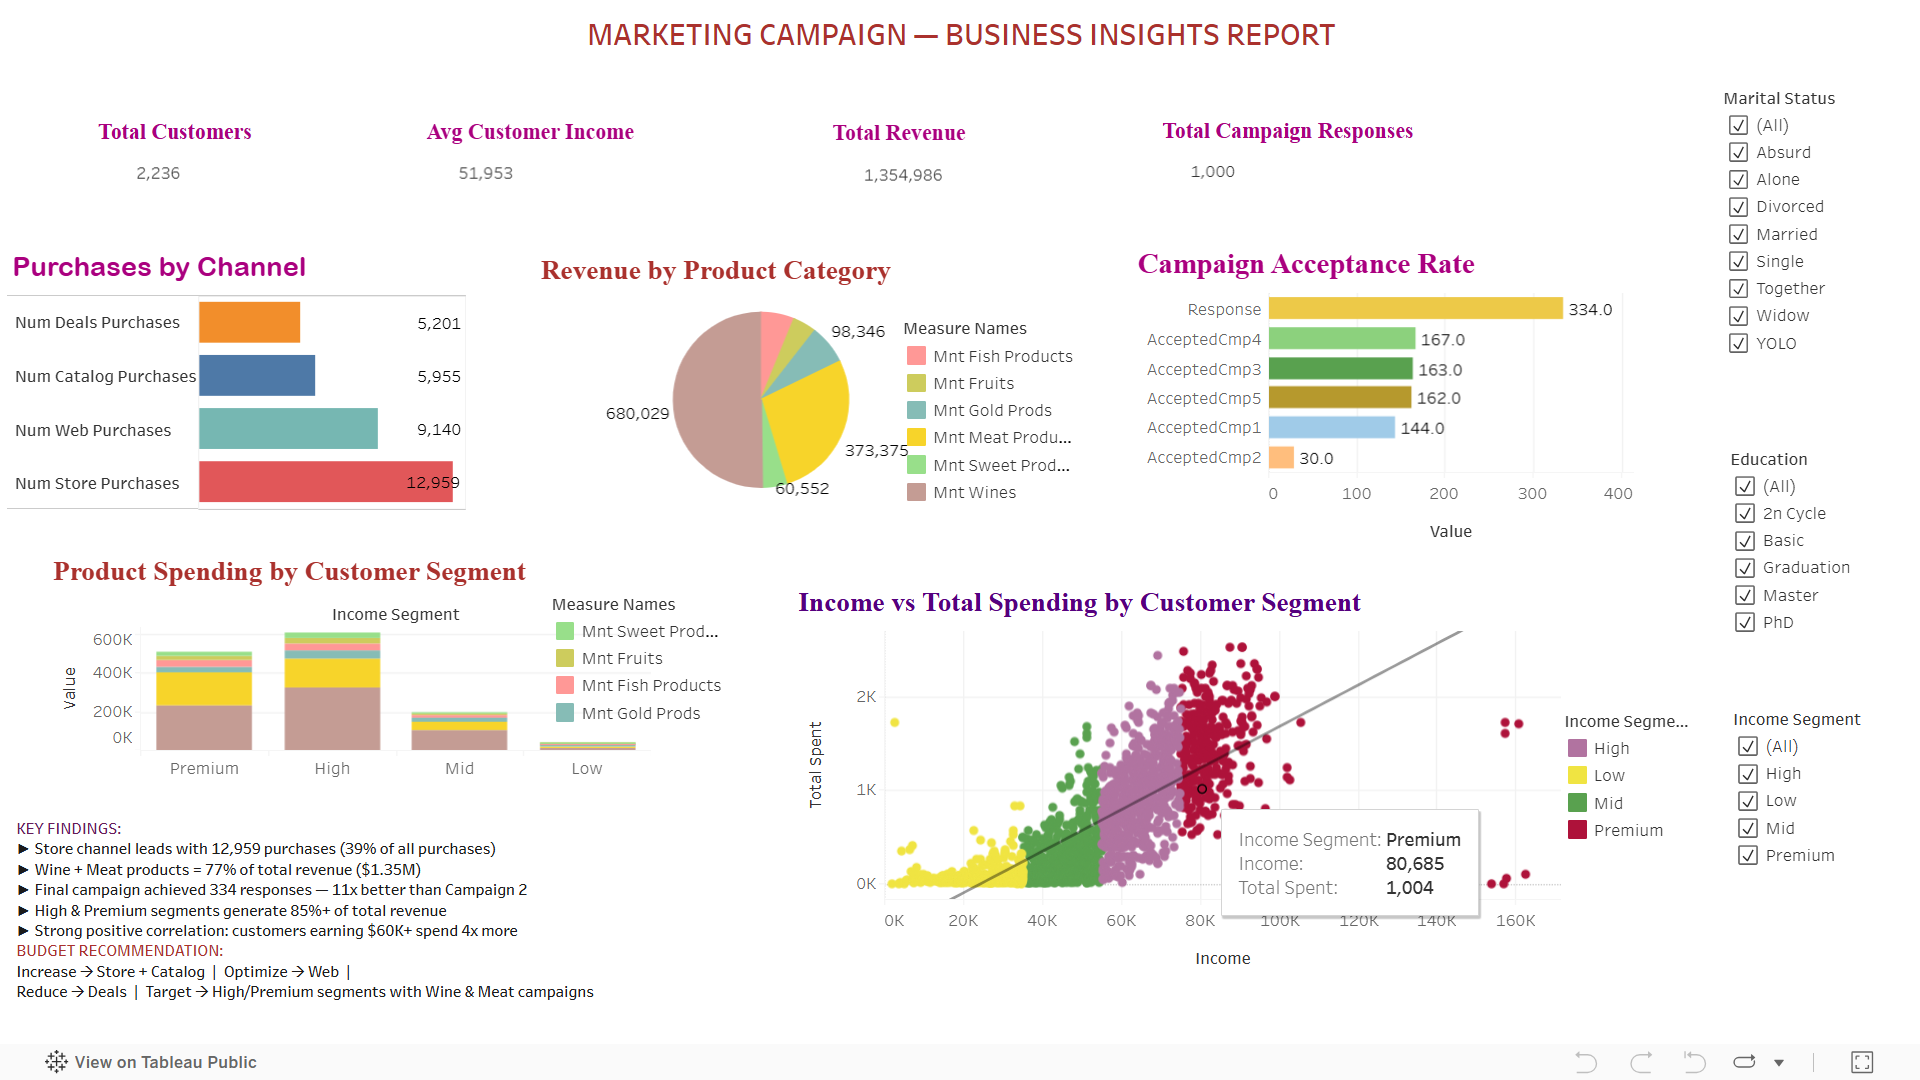

This screenshot's page, from the dashboard's own definition file:
{"tool":"tableau","page":{"name":"MARKETING CAMPAIGN — BUSINESS INSIGHTS REPORT","canvas":[1000,1000],"units":"permille","ordinal":0},"visuals":[{"type":"title","box":[4.8,10,990.3,48.8]},{"type":"blank","box":[4.8,58.8,990.3,616.2]},{"type":"filter","title":"Channel Purchases","param":"[federated.1y67jo71kzln1x0zrn0sl01vzkhu].[none:Marital_Status:nk]","box":[896.2,81.2,96.6,293.8]},{"type":"text","box":[604.7,106.2,161.1,37.5]},{"type":"text","box":[51.3,107.5,104.4,37.5]},{"type":"text","box":[222.1,107.5,132.2,37.5]},{"type":"text","box":[432.7,108.8,86.9,37.5]},{"type":"worksheet","title":"Total Revenue","mark":"Automatic","box":[436.3,137.5,333.1,332.5]},{"type":"worksheet","title":"Total Campaign Responses","mark":"Automatic","box":[602.3,150,333.1,332.5]},{"type":"worksheet","title":"Total Customers","mark":"Automatic","box":[53.7,151.2,333.1,332.5]},{"type":"worksheet","title":"Avg Customer Income","mark":"Automatic","box":[226.9,151.2,333.1,332.5]},{"type":"worksheet","title":"Campaign Performance","mark":"Automatic","box":[589,227.5,260.7,298.8]},{"type":"worksheet","title":"Channel Purchases","mark":"Bar","box":[3.6,231.2,238.5,257.5]},{"type":"worksheet","title":"Product Spending","mark":"Pie","box":[278.2,233.8,234.8,245]},{"type":"legend","title":"Product Spending","param":"[federated.1y67jo71kzln1x0zrn0sl01vzkhu].[:Measure Names]","box":[470.1,302.5,89.9,185]},{"type":"filter","title":"Channel Purchases","param":"[federated.1y67jo71kzln1x0zrn0sl01vzkhu].[none:Education:nk]","box":[899.8,426.2,96.6,207.5]},{"type":"worksheet","title":"Segment Analysis","mark":"Automatic","cols":["Income_Segment"],"box":[25,522.5,313.7,223.8]},{"type":"worksheet","title":"Income vs Spending","mark":"Automatic","rows":["Total_Spent"],"cols":["Income"],"box":[412.6,552.5,399.5,382.5]},{"type":"legend","title":"Segment Analysis","param":"[federated.1y67jo71kzln1x0zrn0sl01vzkhu].[:Measure Names]","box":[286.8,566.2,103.2,130]},{"type":"blank","box":[4.8,675,990.3,87.5]},{"type":"filter","title":"Channel Purchases","param":"[federated.1y67jo71kzln1x0zrn0sl01vzkhu].[none:Income_Segment:nk]","box":[901.6,676.2,96.6,178.8]},{"type":"legend","title":"Income vs Spending","param":"[federated.1y67jo71kzln1x0zrn0sl01vzkhu].[none:Income_Segment:nk]","box":[813.4,678.8,65.6,128.8]},{"type":"text","box":[4.8,762.5,990.3,227.5]}]}

Visuals, with their boxes on the dashboard's canvas, which has no fixed pixel size, in thousandths of its width and height (x1, y1, x2, y2). These are canvas units, not pixel positions in the 1920x1080 screenshot, which may show the page scaled, cropped or inside an application window:
title: pyautogui.locateOnScreen(5, 10, 995, 59)
blank: pyautogui.locateOnScreen(5, 59, 995, 675)
"Channel Purchases" filter: pyautogui.locateOnScreen(896, 81, 993, 375)
text: pyautogui.locateOnScreen(605, 106, 766, 144)
text: pyautogui.locateOnScreen(51, 108, 156, 145)
text: pyautogui.locateOnScreen(222, 108, 354, 145)
text: pyautogui.locateOnScreen(433, 109, 520, 146)
"Total Revenue" worksheet: pyautogui.locateOnScreen(436, 138, 769, 470)
"Total Campaign Responses" worksheet: pyautogui.locateOnScreen(602, 150, 935, 482)
"Total Customers" worksheet: pyautogui.locateOnScreen(54, 151, 387, 484)
"Avg Customer Income" worksheet: pyautogui.locateOnScreen(227, 151, 560, 484)
"Campaign Performance" worksheet: pyautogui.locateOnScreen(589, 228, 850, 526)
"Channel Purchases" worksheet (Bar marks): pyautogui.locateOnScreen(4, 231, 242, 489)
"Product Spending" worksheet (Pie marks): pyautogui.locateOnScreen(278, 234, 513, 479)
"Product Spending" legend: pyautogui.locateOnScreen(470, 302, 560, 488)
"Channel Purchases" filter: pyautogui.locateOnScreen(900, 426, 996, 634)
"Segment Analysis" worksheet: pyautogui.locateOnScreen(25, 522, 339, 746)
"Income vs Spending" worksheet: pyautogui.locateOnScreen(413, 552, 812, 935)
"Segment Analysis" legend: pyautogui.locateOnScreen(287, 566, 390, 696)
blank: pyautogui.locateOnScreen(5, 675, 995, 762)
"Channel Purchases" filter: pyautogui.locateOnScreen(902, 676, 998, 855)
"Income vs Spending" legend: pyautogui.locateOnScreen(813, 679, 879, 808)
text: pyautogui.locateOnScreen(5, 762, 995, 990)
